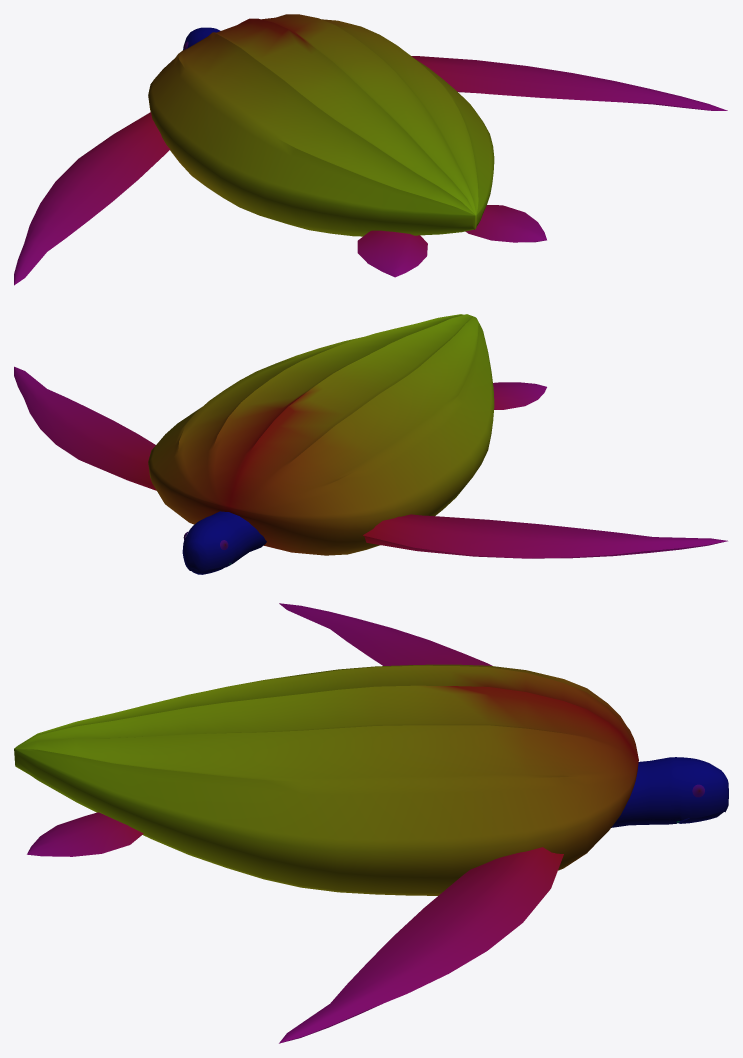
Rendered from sea_turtle_leatherback_game.glb.
3 renders of one model, top to bottom at view 1: azimuth 30°, elevation 25°; view 2: azimuth 150°, elevation 25°; view 3: azimuth 270°, elevation 25°, orthographic. The views are drawn at different scales.
Parts seen in each view (by area): view 1: sea_turtle_leatherback_game; view 2: sea_turtle_leatherback_game; view 3: sea_turtle_leatherback_game.
Boxes of the visible parts, box(x1,y1,x2,y2) form: sea_turtle_leatherback_game: box(14, 14, 727, 285); sea_turtle_leatherback_game: box(14, 314, 727, 574); sea_turtle_leatherback_game: box(14, 603, 728, 1043).
Size of the model in its own units: 3 by 0.5384 by 2.06.
